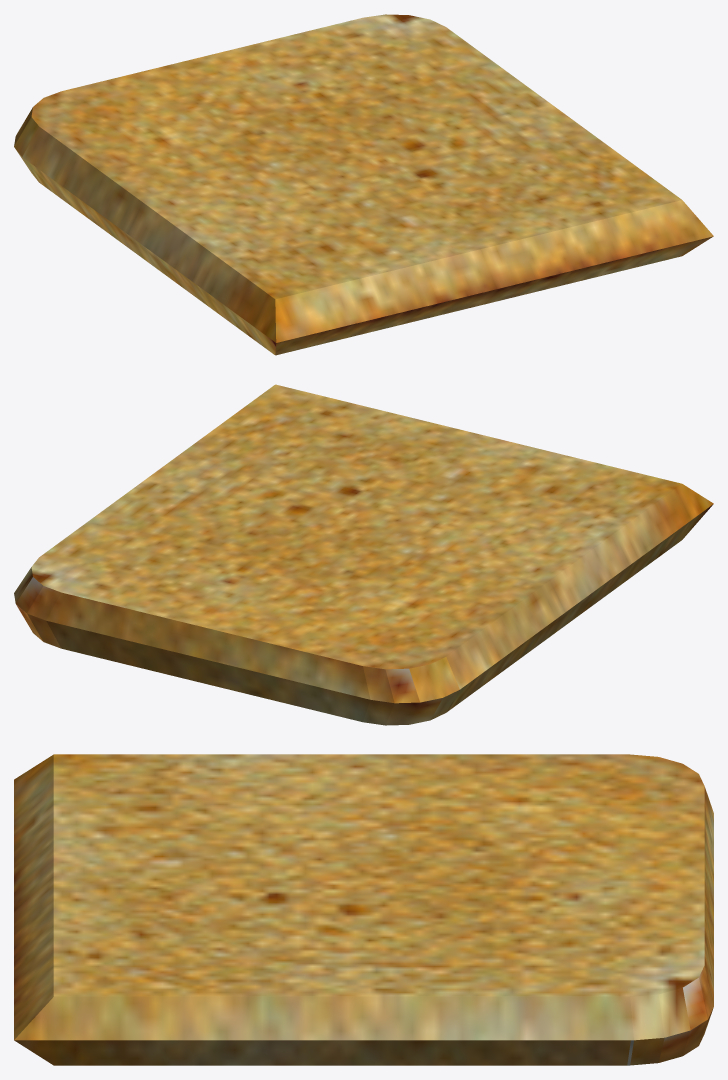
File: toast.glb
3 views of the same model, one above another, from view 1: azimuth 30°, elevation 25°; view 2: azimuth 150°, elevation 25°; view 3: azimuth 270°, elevation 25° (orthographic). The views are drawn at different scales.
Visible parts, largest first — view 1: toast; view 2: toast; view 3: toast.
Boxes of the visible parts, bbox=[...] form: toast: bbox=[14, 14, 713, 355]; toast: bbox=[14, 384, 713, 725]; toast: bbox=[14, 754, 713, 1065].
Size of the model in its own units: 0.1552 by 0.019 by 0.1761.
Materials: 1 (1 with a texture image).
